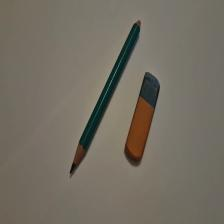eraser: (126, 72, 161, 162)
pencil: (70, 20, 142, 175)
